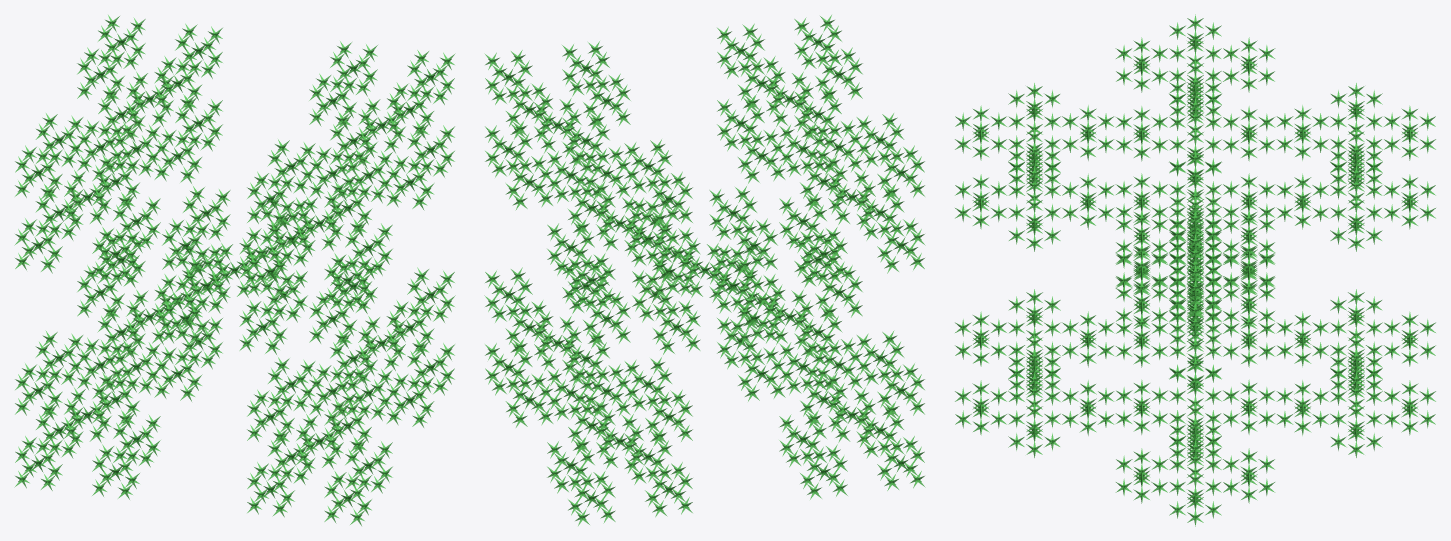
File: fractalgreattriakisoctahedron3.glb
The picture shows the model from 3 angles, left to right: view 1: azimuth 30°, elevation 25°; view 2: azimuth 150°, elevation 25°; view 3: azimuth 270°, elevation 25°; orthographic projection. The views are drawn at different scales.
Bounding box in the file's own units: 10.16 × 7.18 × 10.16.
